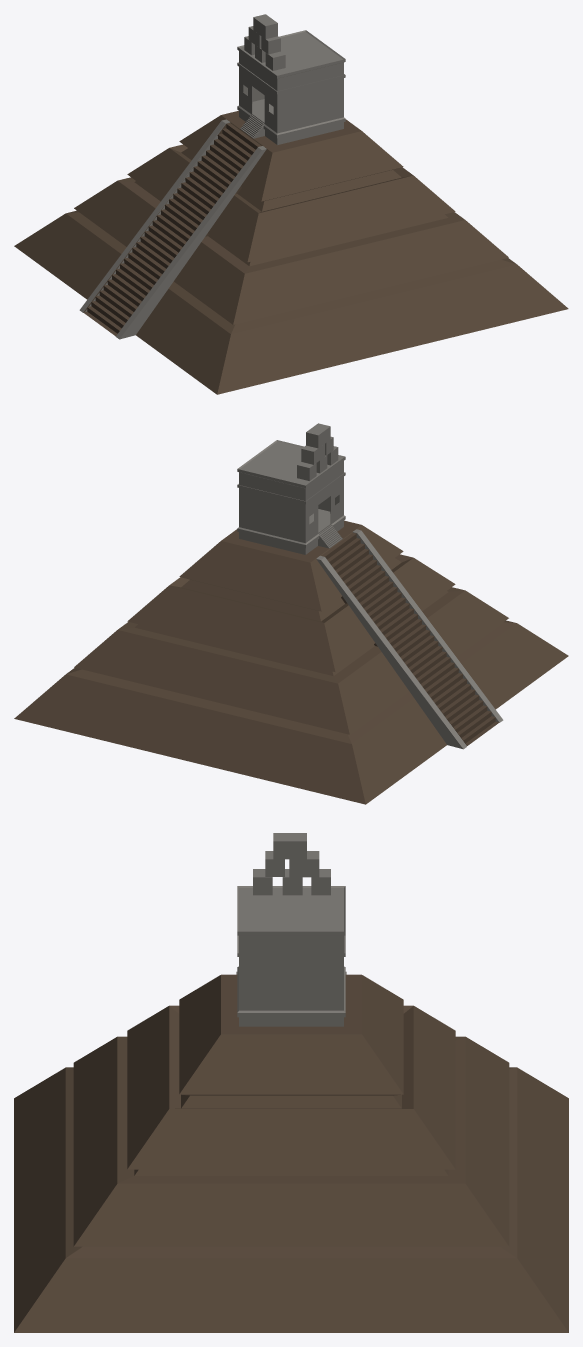
The model's file is Temple.fbx.
3 views of the same model, one above another, from view 1: azimuth 30°, elevation 25°; view 2: azimuth 150°, elevation 25°; view 3: azimuth 270°, elevation 25° (orthographic). The views are drawn at different scales.
Parts seen in each view (by area): view 1: Cube.001, Cube.003, Cube.005, Cube.004, Cube.011; view 2: Cube.001, Cube.003, Cube.005, Cube.004, Cube.011; view 3: Cube.001, Cube.005, Cube.011, Cube.009.
Part boxes in pixels (x1=…): Cube.001: x1=14, y1=110, x2=568, y2=394; Cube.003: x1=83, y1=123, x2=261, y2=336; Cube.005: x1=237, y1=30, x2=345, y2=144; Cube.004: x1=79, y1=119, x2=266, y2=339; Cube.011: x1=253, y1=14, x2=277, y2=39; Cube.001: x1=14, y1=520, x2=568, y2=804; Cube.003: x1=321, y1=533, x2=499, y2=745; Cube.005: x1=237, y1=440, x2=345, y2=554; Cube.004: x1=316, y1=529, x2=503, y2=749; Cube.011: x1=306, y1=423, x2=330, y2=448; Cube.001: x1=14, y1=974, x2=568, y2=1332; Cube.005: x1=237, y1=886, x2=345, y2=1026; Cube.011: x1=273, y1=833, x2=306, y2=859; Cube.009: x1=289, y1=851, x2=319, y2=877.
Bounding box in the file's own units: 440 × 302 × 421.
